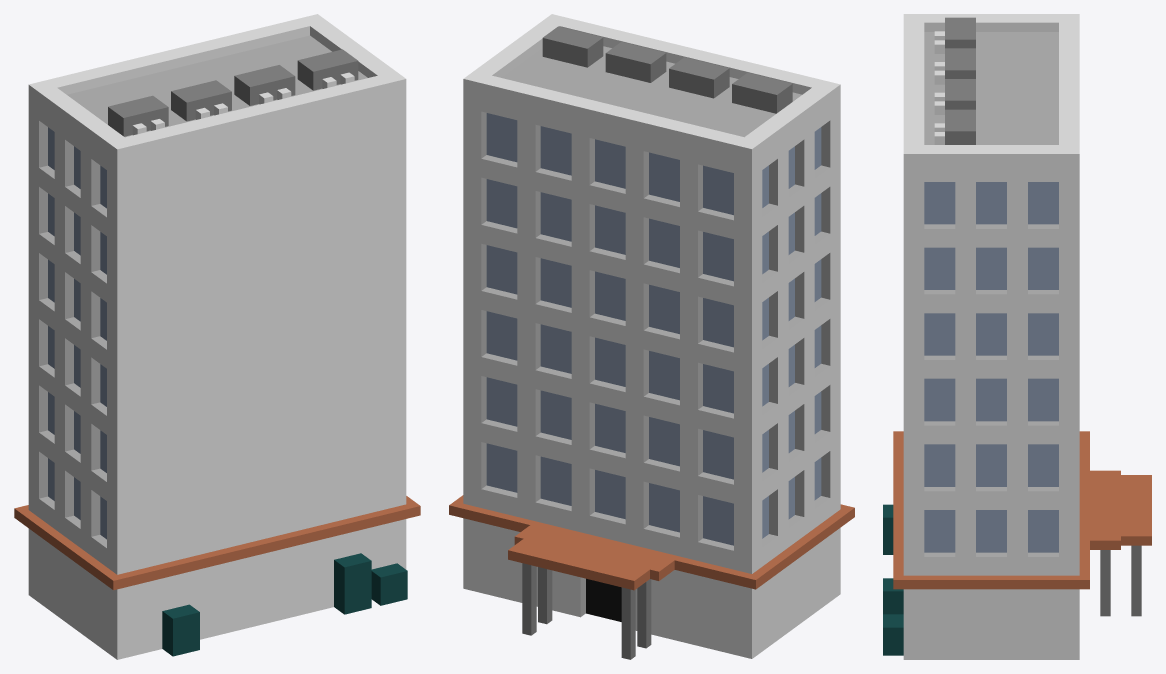
Rendered from Building_4.fbx.
3 renders of one model, left to right at view 1: azimuth 30°, elevation 25°; view 2: azimuth 150°, elevation 25°; view 3: azimuth 270°, elevation 25°, orthographic.
Visible parts, largest first — view 1: Building_4; view 2: Building_4; view 3: Building_4.
Boxes of the visible parts, bbox=[...] form: Building_4: bbox=[14, 14, 420, 659]; Building_4: bbox=[449, 14, 854, 659]; Building_4: bbox=[883, 14, 1151, 659].
Bounding box in the file's own units: 8.5 × 13.75 × 6.5.
